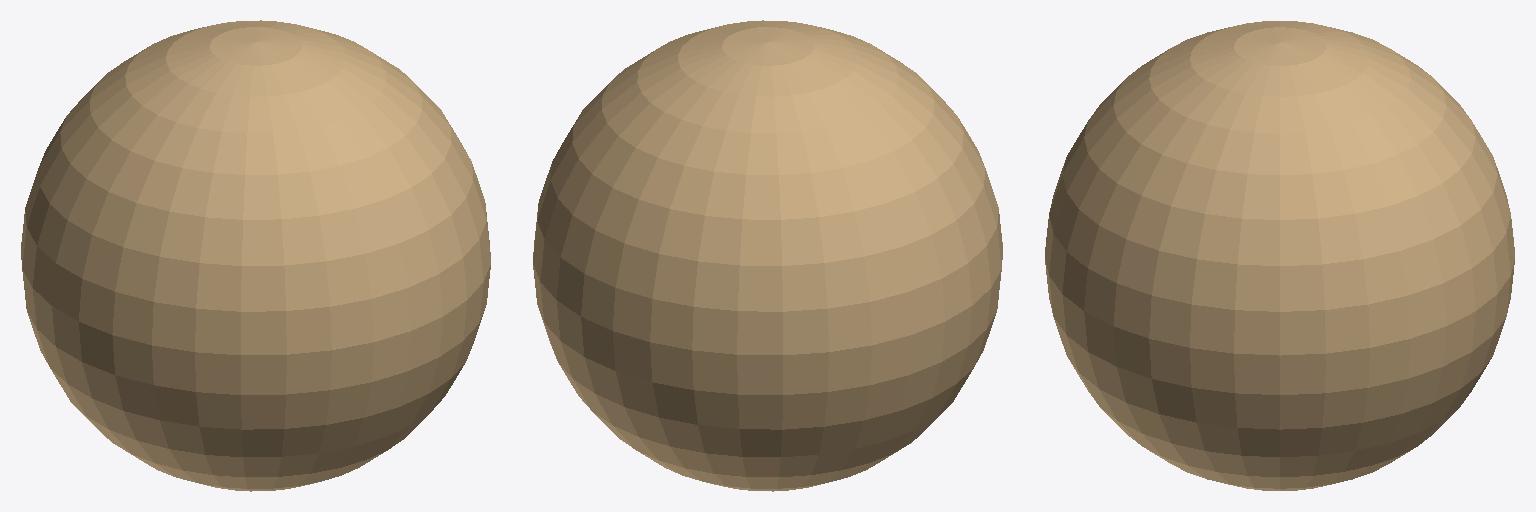
robot.urdf — sphere:
<?xml version="1.0" ?>
<robot name="sphere">
  <link name="base_link">
    <visual>
      <geometry>
        <sphere radius="0.4"/>
      </geometry>
      <material name="brown">
        <color rgba="0.82 0.71 0.55 1.0"/> <!-- Yellow color -->
      </material>
    </visual>
    <collision>
      <geometry>
        <sphere radius="0.2"/>
      </geometry>
    </collision>
    <inertial>
      <mass value="0.0"/>
      <inertia ixx="0.0" ixy="0.0" ixz="0.0" iyy="0.0" iyz="0.0" izz="0.0"/>
    </inertial>
  </link>
</robot>

--- What the picture shows (computed from the rendered views, not written in the file) ---
Views: 3 orthographic renders of the robot side by side, from view 1: azimuth 30°, elevation 25°; view 2: azimuth 150°, elevation 25°; view 3: azimuth 270°, elevation 25°.
Robot: sphere — 1 links, 0 joints (none); root link base_link; default pose: all joints at 0.
Visible links, largest first — view 1: base_link; view 2: base_link; view 3: base_link.
Link boxes in pixels (<box>): base_link: <box>21,20,490,491</box>; base_link: <box>533,20,1002,491</box>; base_link: <box>1045,21,1514,490</box>.
Bounding box of the posed robot: 0.8 × 0.8 × 0.8 m (x, y, z).
Geometry: primitives only (box / cylinder / sphere), no mesh files.